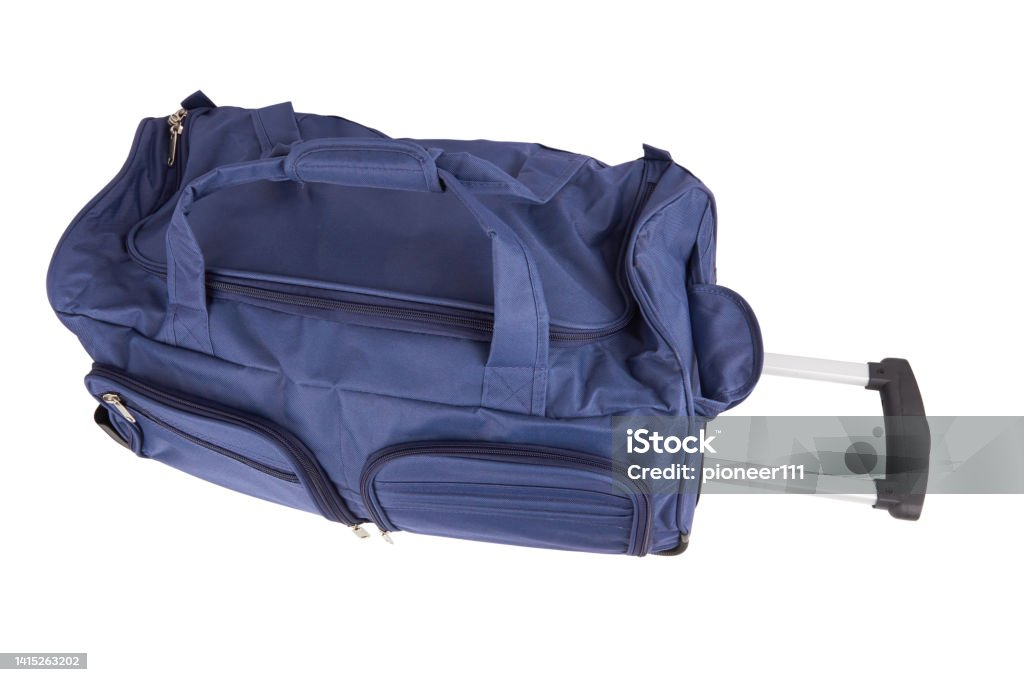Bag: (42, 87, 766, 568)
Handle: (694, 346, 946, 531)
Straps: (164, 104, 587, 415)
